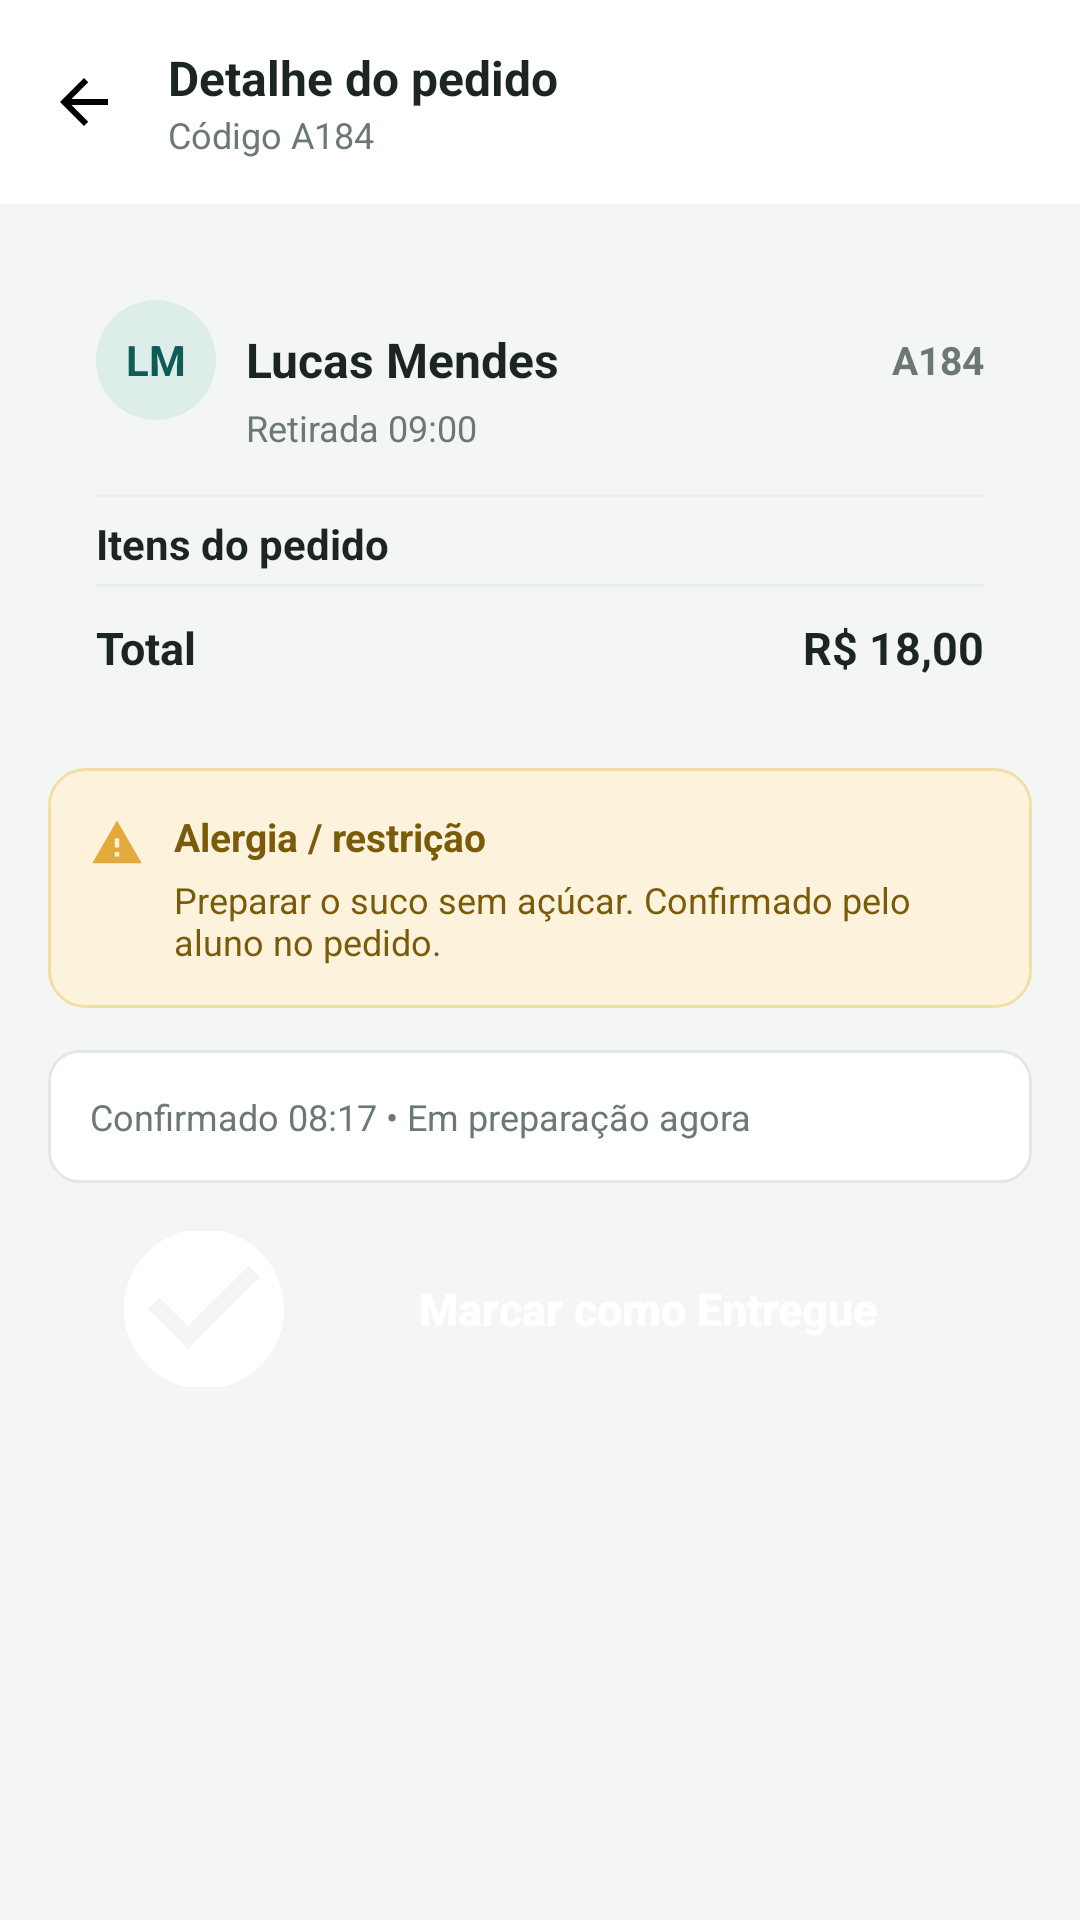

Screen size 1080*1920. Icon name, then its center in pixels as (x,y):
Voltar: (84,102)
warning: (117,842)
